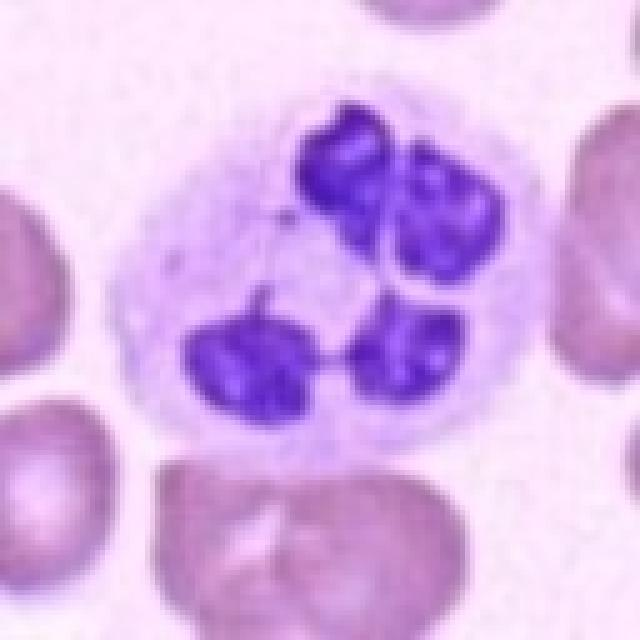neutro: (140, 148, 529, 520)
